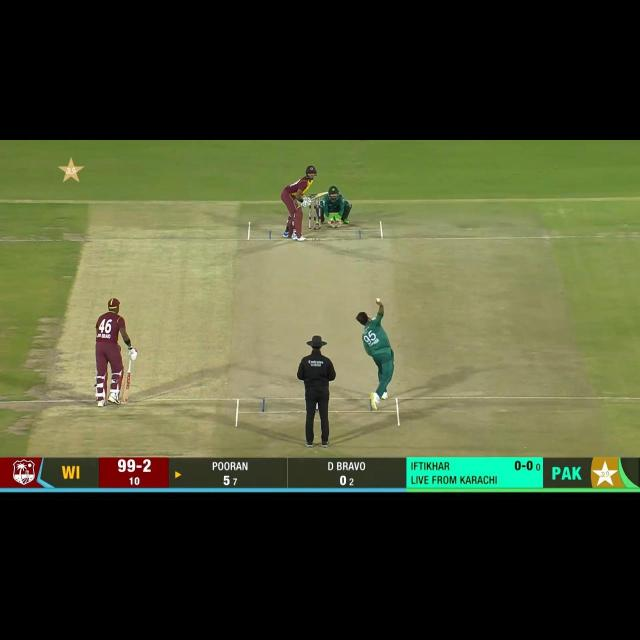bat: (121, 370, 131, 406), (310, 192, 331, 202)
toe: (120, 398, 129, 404), (324, 191, 329, 195)
